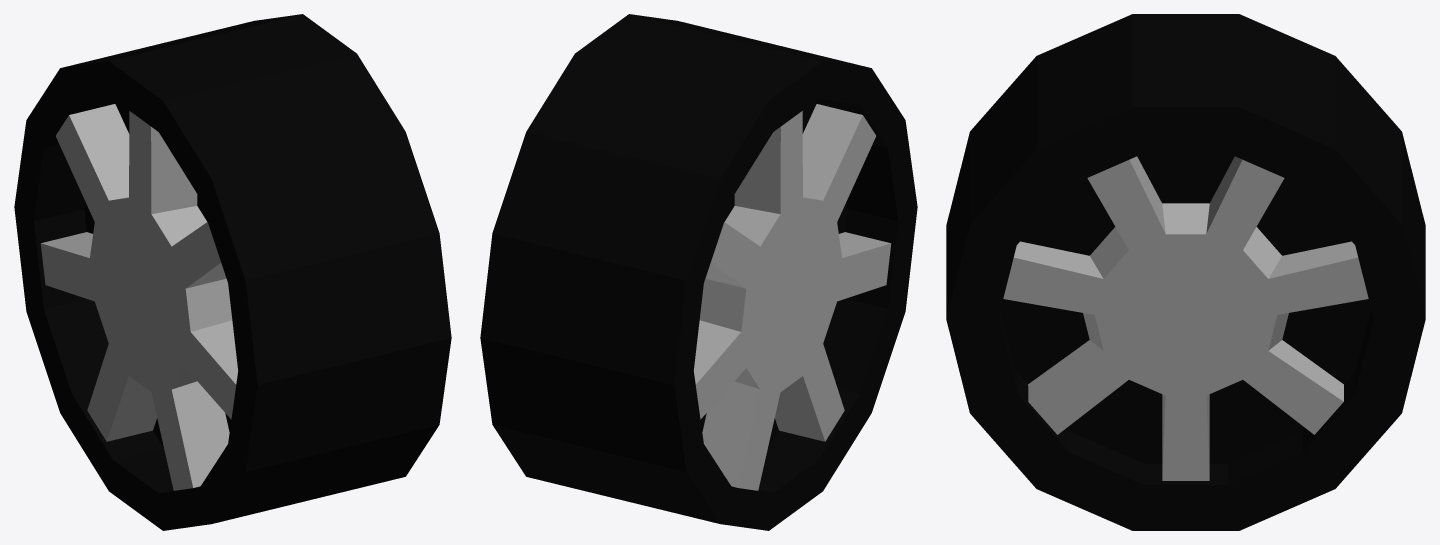
Rendered from BL WHEEL.004_BODY.023.glb.
3 views of the same model, side by side, from view 1: azimuth 30°, elevation 25°; view 2: azimuth 150°, elevation 25°; view 3: azimuth 270°, elevation 25° (orthographic).
Parts seen in each view (by area): view 1: BL WHEEL.004_BODY.023_0; view 2: BL WHEEL.004_BODY.023_0; view 3: BL WHEEL.004_BODY.023_0.
Boxes of the visible parts, x1,y1,x2,y2 form: BL WHEEL.004_BODY.023_0: (14,14,451,530); BL WHEEL.004_BODY.023_0: (480,14,917,530); BL WHEEL.004_BODY.023_0: (946,14,1425,530).
Bounding box in the file's own units: 0.0381 × 0.0806 × 0.0827.
Materials: 1 (1 with a texture image).
